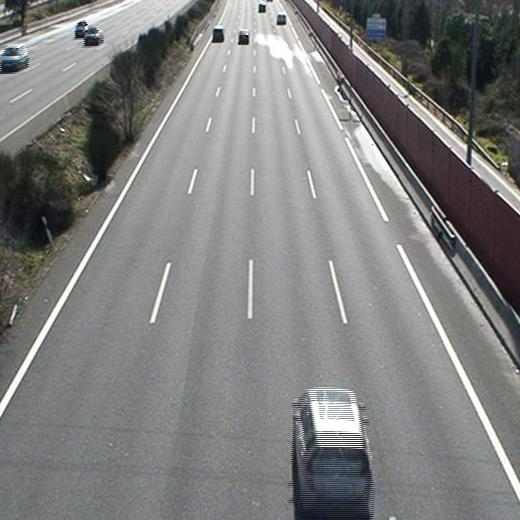car: (292, 390, 371, 519), (237, 30, 251, 45), (212, 27, 224, 43), (276, 13, 287, 25)
